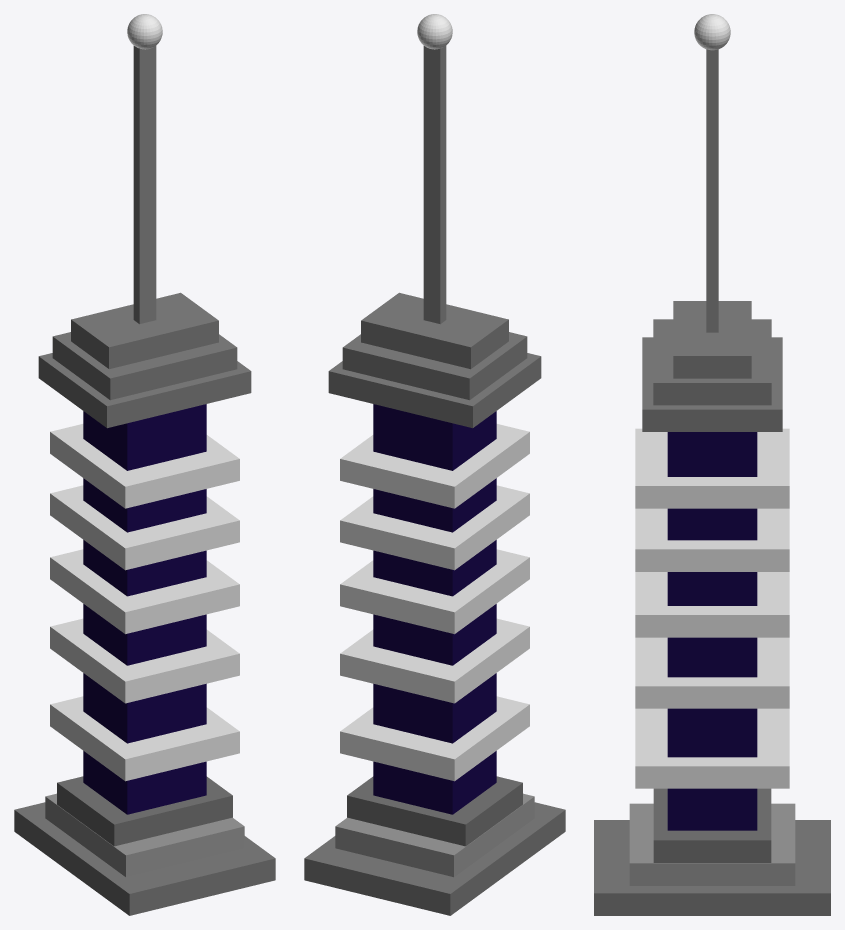
The model's file is вышка.fbx.
3 renders of one model, left to right at view 1: azimuth 30°, elevation 25°; view 2: azimuth 150°, elevation 25°; view 3: azimuth 270°, elevation 25°, orthographic. The views are drawn at different scales.
Parts seen in each view (by area): view 1: Cube, Cube.003, Cube.008, Cube.006, Cube.004, Cube.007, Cube.005, Cube.011, Cube.012, Cube.009, Cube.002, Cube.001 (+2 smaller); view 2: Cube, Cube.003, Cube.008, Cube.006, Cube.004, Cube.007, Cube.005, Cube.011, Cube.012, Cube.009, Cube.002, Cube.001 (+2 smaller); view 3: Cube, Cube.003, Cube.004, Cube.008, Cube.005, Cube.006, Cube.007, Cube.002, Cube.011, Cube.010, Cube.009, Cube.001 (+2 smaller).
Part boxes in pixels (x1,y1,x2,y2): Cube: (83, 404, 206, 814); Cube.003: (14, 802, 275, 915); Cube.008: (50, 424, 239, 508); Cube.006: (50, 549, 239, 634); Cube.004: (50, 696, 239, 781); Cube.007: (50, 485, 239, 570); Cube.005: (50, 618, 239, 703); Cube.011: (71, 292, 218, 369); Cube.012: (133, 46, 156, 324); Cube.009: (38, 353, 251, 428); Cube.002: (45, 793, 244, 877); Cube.001: (57, 776, 232, 846); Cube: (373, 404, 496, 814); Cube.003: (304, 802, 565, 915); Cube.008: (340, 424, 529, 508); Cube.006: (340, 549, 529, 634); Cube.004: (340, 696, 529, 781); Cube.007: (340, 485, 529, 570); Cube.005: (340, 618, 529, 703); Cube.011: (361, 292, 508, 369); Cube.012: (423, 46, 446, 324); Cube.009: (328, 353, 541, 428); Cube.002: (335, 793, 534, 877); Cube.001: (347, 776, 522, 846); Cube: (667, 432, 757, 830); Cube.003: (594, 820, 830, 915); Cube.004: (635, 708, 789, 788); Cube.008: (635, 428, 789, 508); Cube.005: (635, 637, 789, 708); Cube.006: (635, 572, 789, 637); Cube.007: (635, 508, 789, 571); Cube.002: (629, 803, 795, 885); Cube.011: (673, 301, 751, 378); Cube.010: (653, 319, 771, 405); Cube.009: (642, 337, 782, 431); Cube.001: (653, 788, 771, 862).
Size of the model in its own units: 1395 by 7663 by 1904.
